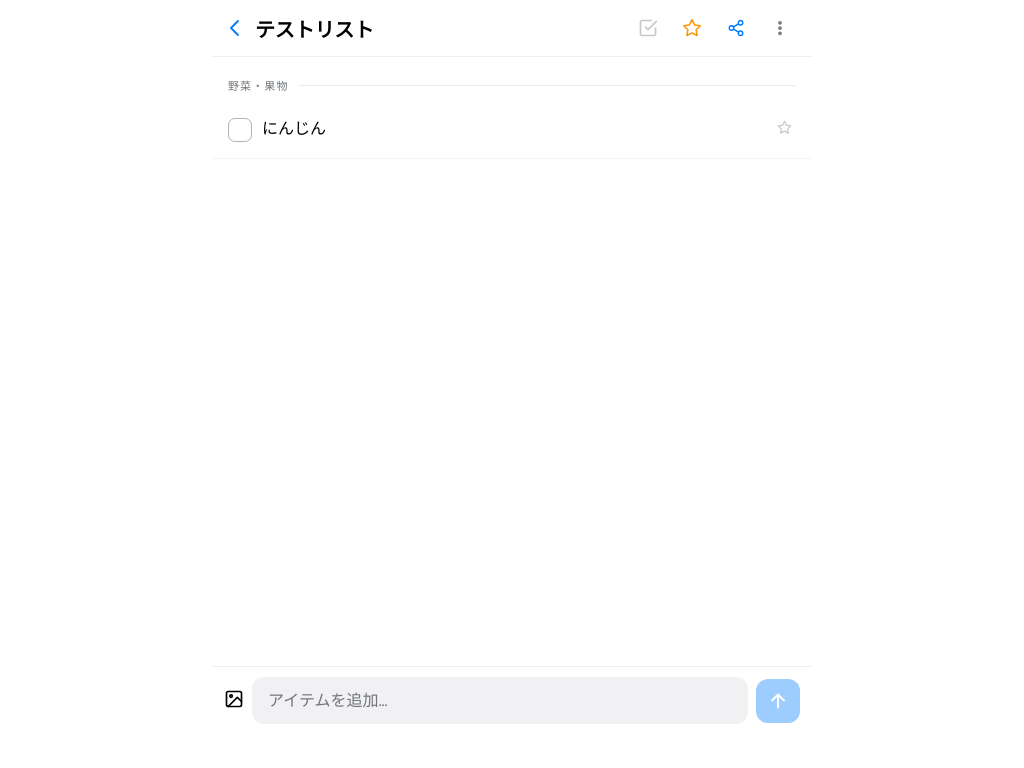
Test case: ListView.vue - List rename › opens the rename sheet with the current name when tapping the header title
Step 1. Click the text with class "header-title" → x=314, y=30, box [255,16,374,42]
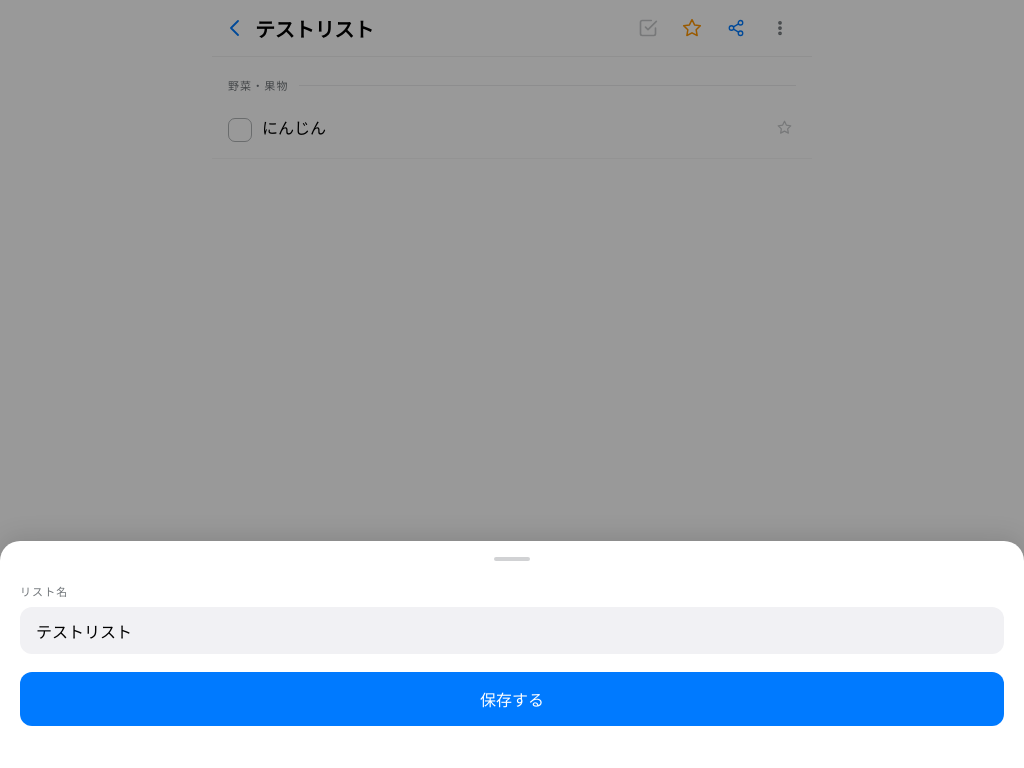
Expected: the field with class "sheet-input" holds "テストリスト", [20,607,1004,654]
